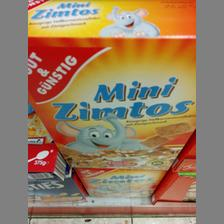Cerealien: (26, 0, 193, 168)
